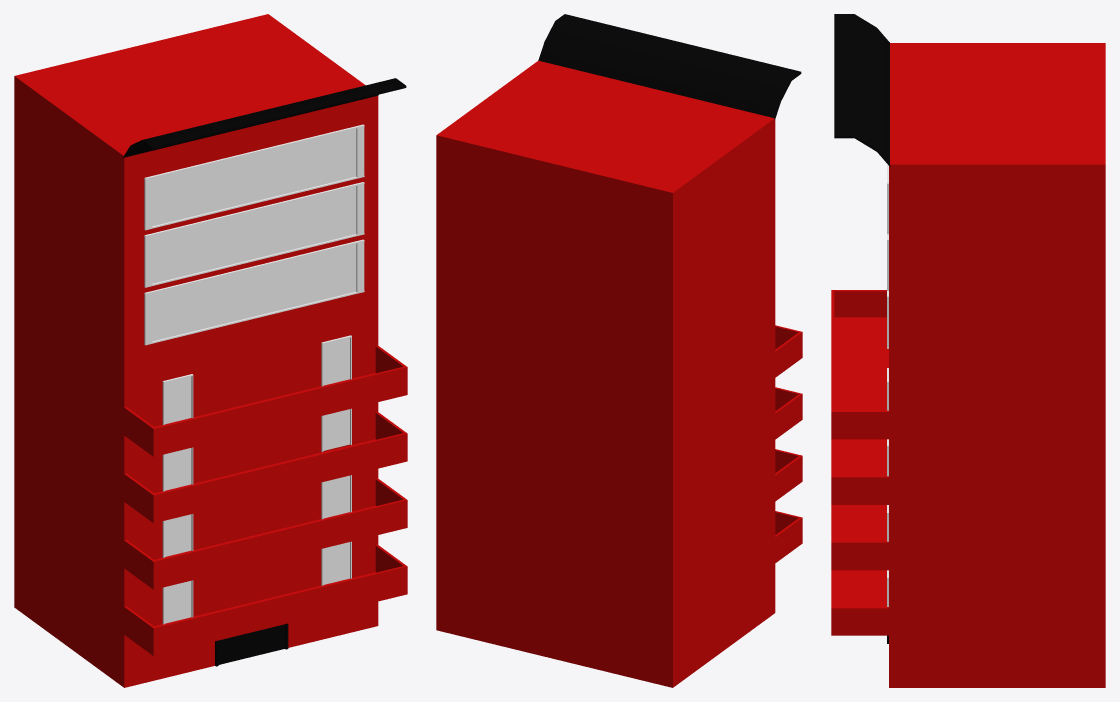
Rendered from apartment.fbx.
3 views of the same model, side by side, from view 1: azimuth 30°, elevation 25°; view 2: azimuth 150°, elevation 25°; view 3: azimuth 270°, elevation 25° (orthographic). The views are drawn at different scales.
Parts seen in each view (by area): view 1: polySurface23, polySurface22; view 2: polySurface23; view 3: polySurface23, polySurface22.
Part boxes in pixels (left/top/right/bottom): polySurface23: left=14, top=14, right=407, bottom=687; polySurface22: left=144, top=124, right=364, bottom=624; polySurface23: left=436, top=14, right=802, bottom=687; polySurface23: left=831, top=14, right=1105, bottom=687; polySurface22: left=887, top=164, right=888, bottom=606.
Bounding box in the file's own units: 2000 × 4220 × 1900.
